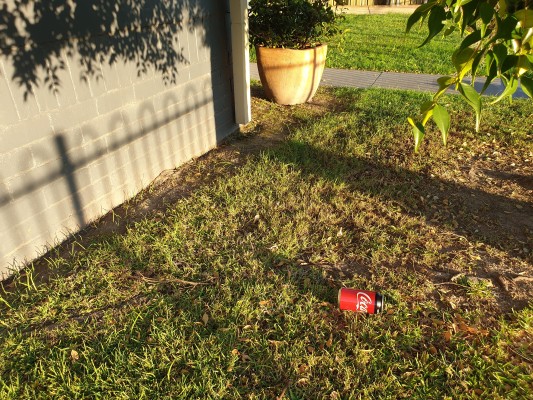Plastic Bottle: (338, 287, 383, 314)
